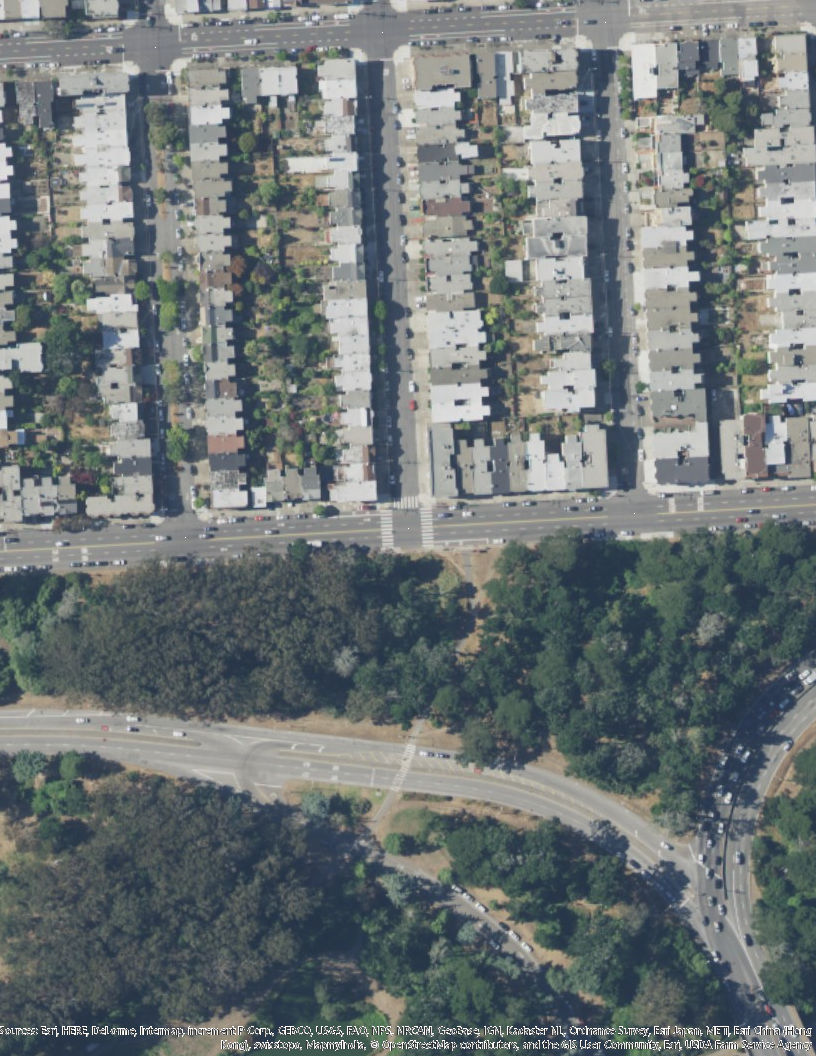zebracross: (419, 509, 436, 548), (379, 513, 393, 547), (393, 495, 418, 509)
